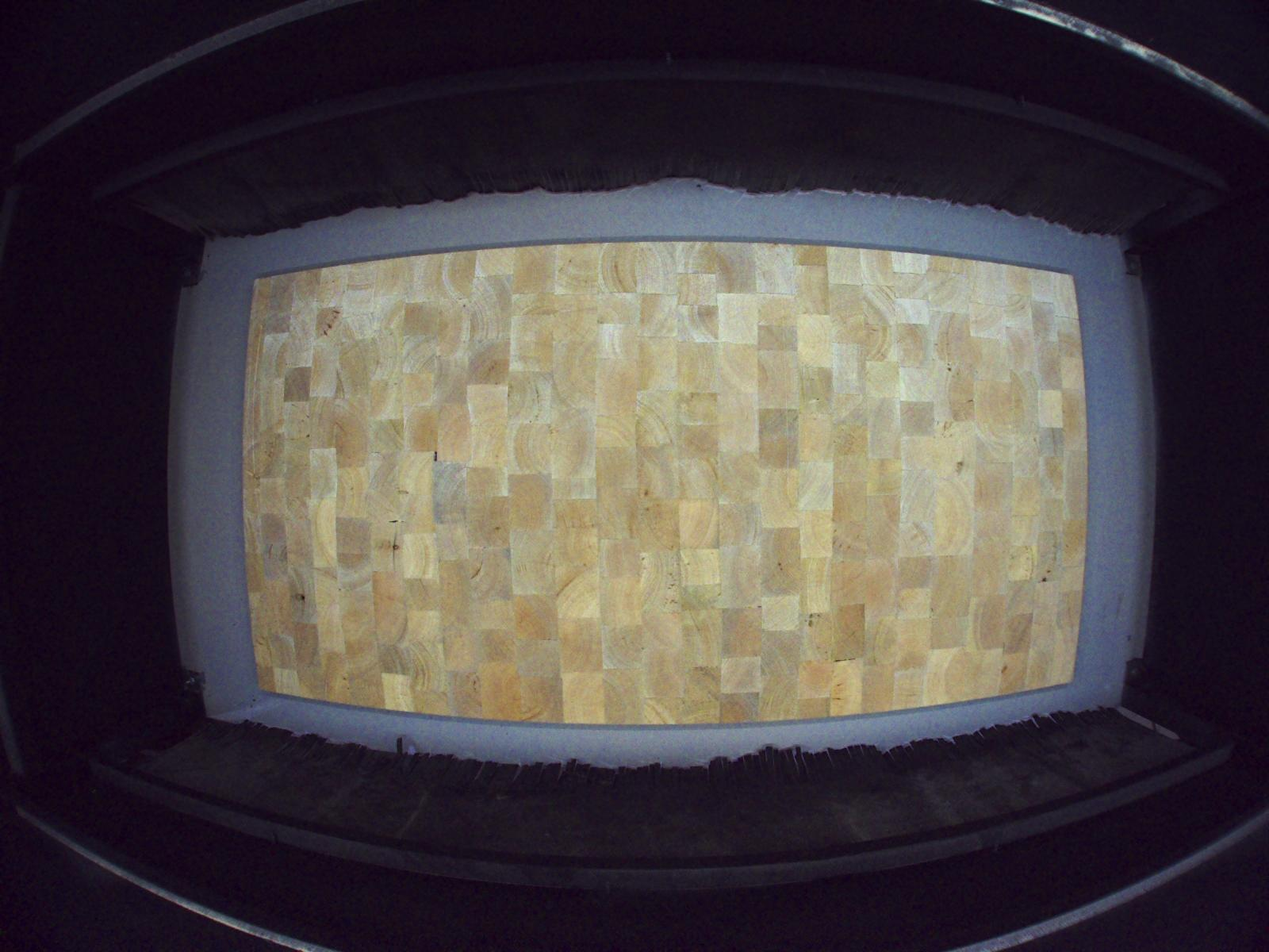sheck_ecuatoriano: (292, 584, 306, 613), (392, 531, 400, 571)
